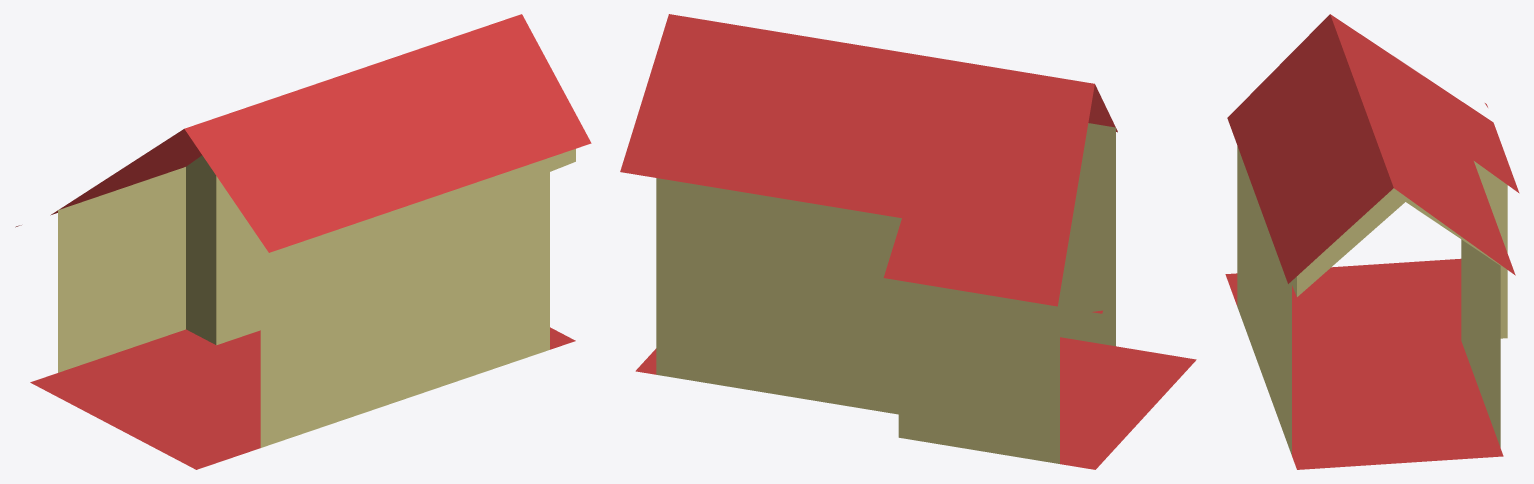
3 renders of one model, left to right at view 1: azimuth 30°, elevation 25°; view 2: azimuth 150°, elevation 25°; view 3: azimuth 270°, elevation 25°, orthographic. The views are drawn at different scales.
Bounding box in the file's own units: 24.84 × 13.88 × 14.58.
